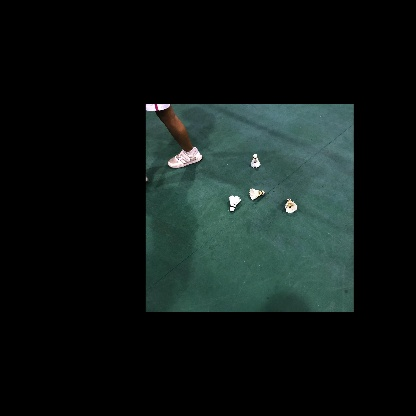ball_single: (228, 195, 241, 211), (249, 189, 265, 200), (285, 199, 297, 213), (250, 154, 261, 168)
